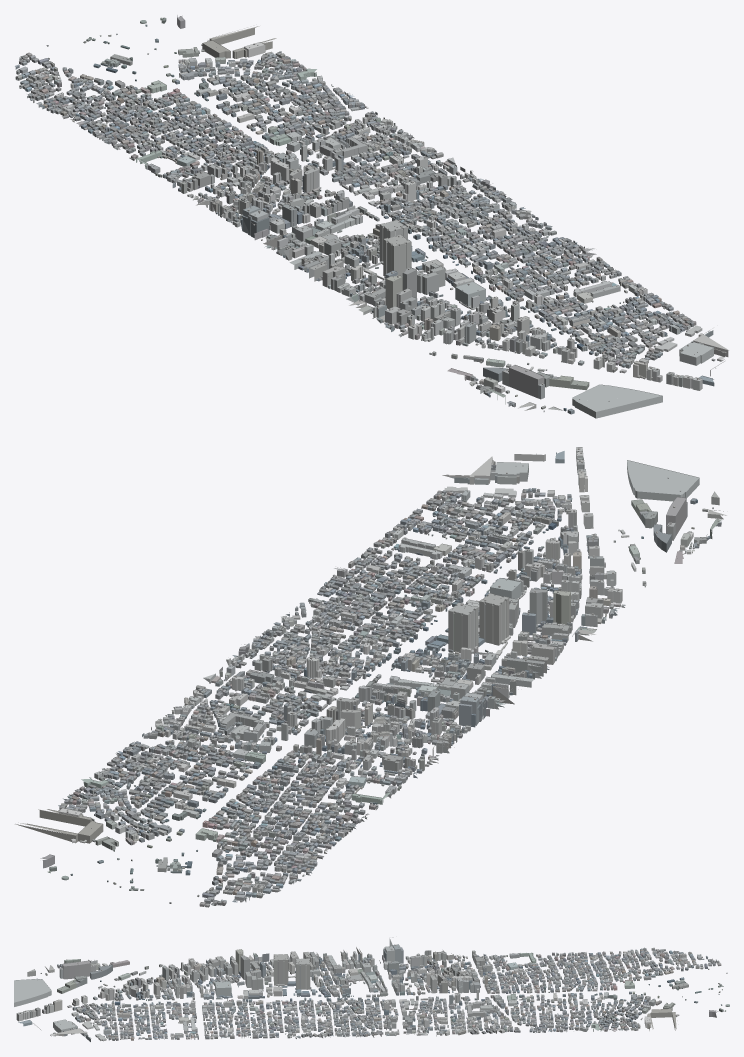
Rendered from buildings.glb.
3 views of the same model, one above another, from view 1: azimuth 30°, elevation 25°; view 2: azimuth 150°, elevation 25°; view 3: azimuth 270°, elevation 25° (orthographic). The views are drawn at different scales.
Parts seen in each view (by area): view 1: b_-2_4, b_-2_3, b_-2_2, b_-2_1, b_-1_-2, b_1_2, b_-2_-5, b_-2_-6, b_-1_5, b_1_3, b_-1_4, b_0_0 (+52 smaller); view 2: b_-2_3, b_-1_1, b_-2_-1, b_-1_8, b_-1_-2, b_-2_2, b_-2_1, b_1_-1, b_1_2, b_1_-3, b_-2_-3, b_-2_-5 (+49 smaller); view 3: b_-1_2, b_-2_-1, b_-1_1, b_-2_3, b_-2_0, b_-1_-2, b_-1_4, b_-2_1, b_-2_7, b_1_-3, b_-1_3, b_-2_-6 (+64 smaller).
Part boxes in pixels (x1,y1,x2,y2): b_-2_4: (380, 301, 461, 341); b_-2_3: (352, 267, 427, 322); b_-2_2: (320, 239, 396, 296); b_-2_1: (292, 238, 370, 278); b_-1_-2: (251, 153, 321, 195); b_1_2: (476, 224, 559, 259); b_-2_-5: (111, 108, 191, 144); b_-2_-6: (78, 87, 157, 122); b_-1_5: (470, 303, 543, 351); b_1_3: (507, 247, 586, 282); b_-1_4: (443, 284, 510, 327); b_0_0: (374, 181, 446, 225); b_-2_3: (522, 588, 606, 642); b_-1_1: (394, 608, 478, 678); b_-2_-1: (385, 689, 478, 737); b_-1_8: (627, 460, 699, 504); b_-1_-2: (310, 697, 385, 744); b_-2_2: (478, 598, 566, 664); b_-2_1: (447, 651, 547, 687); b_1_-1: (215, 654, 304, 698); b_1_2: (313, 587, 402, 625); b_1_-3: (153, 706, 238, 742); b_-2_-3: (318, 741, 405, 783); b_-2_-5: (252, 796, 341, 835); b_-1_2: (264, 954, 309, 996); b_-2_-1: (387, 945, 430, 981); b_-1_1: (302, 958, 350, 997); b_-2_3: (220, 949, 265, 979); b_-2_0: (346, 947, 388, 979); b_-1_-2: (427, 973, 471, 993); b_-1_4: (181, 969, 230, 997); b_-2_1: (303, 951, 349, 980); b_-2_7: (57, 959, 100, 979); b_1_-3: (468, 1011, 513, 1032); b_-1_3: (217, 969, 263, 997); b_-2_-6: (595, 959, 637, 979).
Size of the model in its own units: 810 by 114 by 2590.
